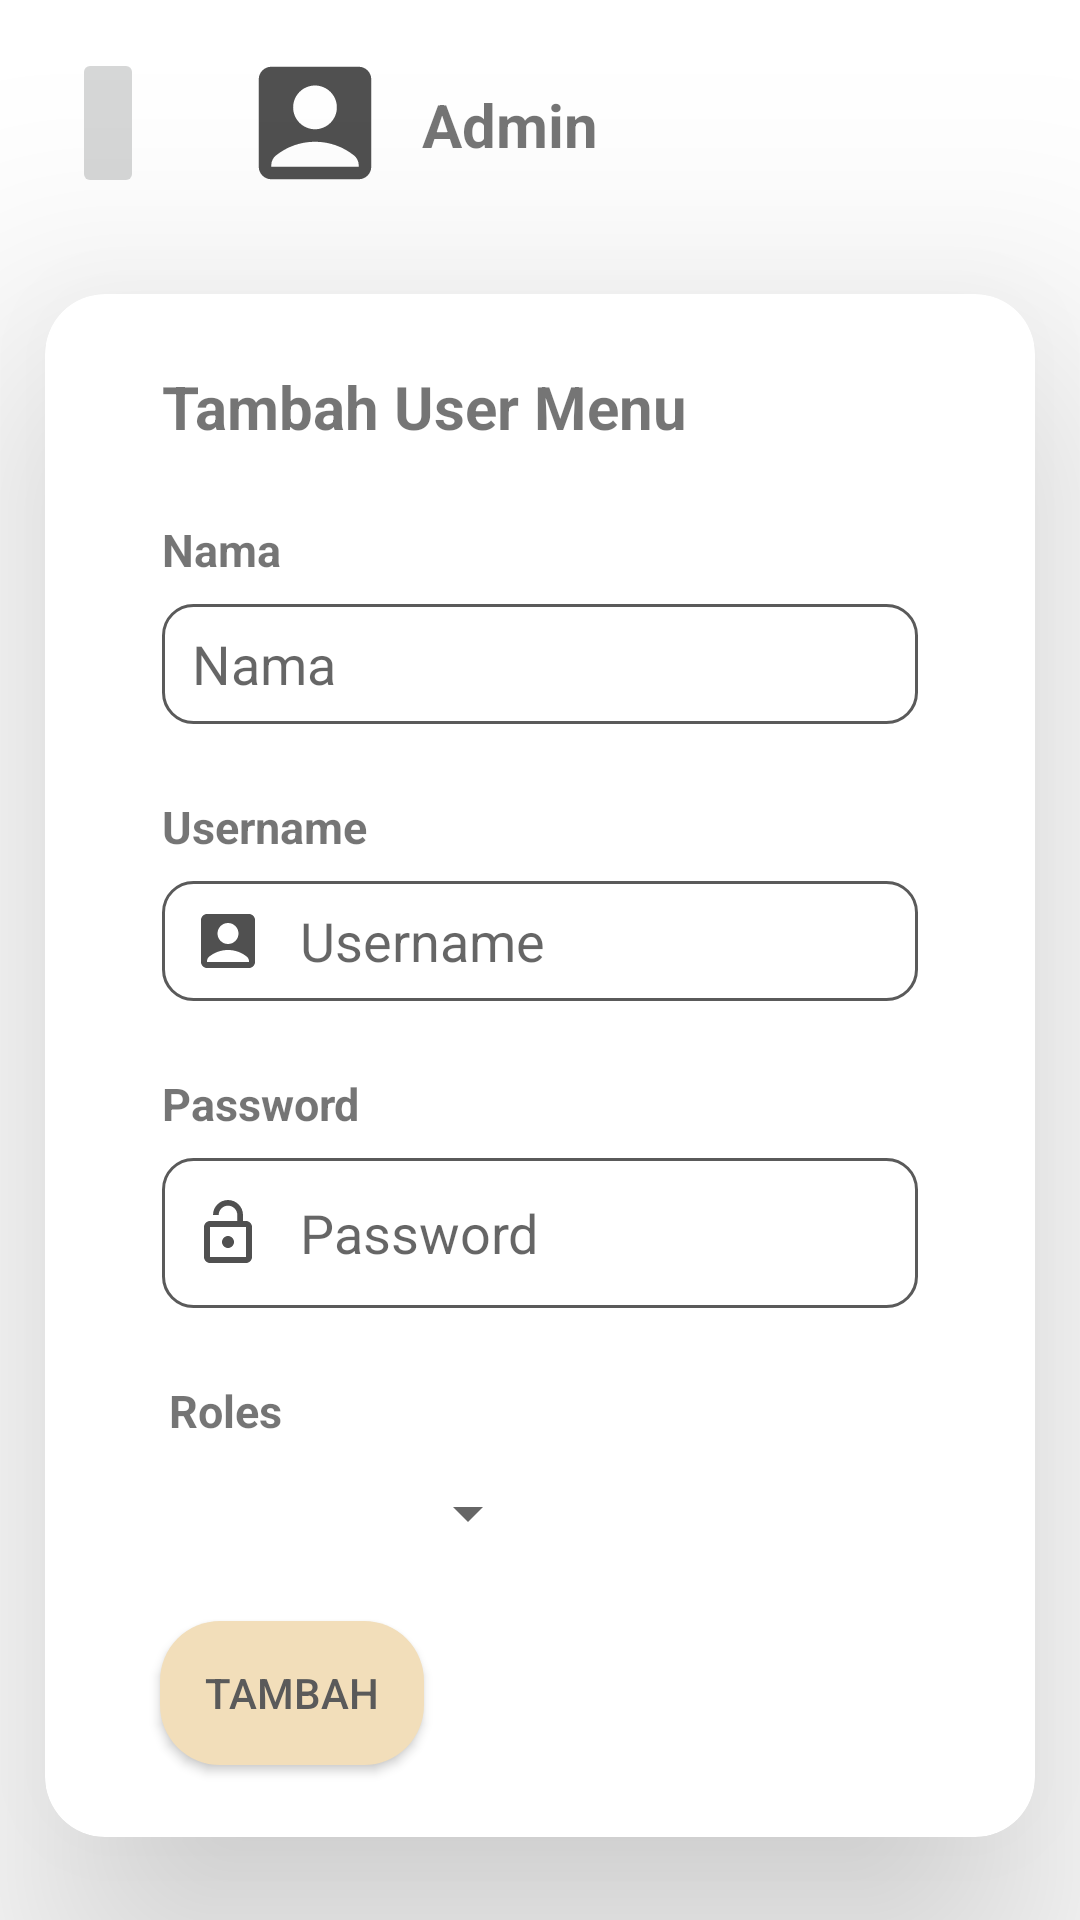

Where to tap for icons on this 1080px x 1920px app screen, as (x=x, y=y):
account box: (x=315, y=123)
